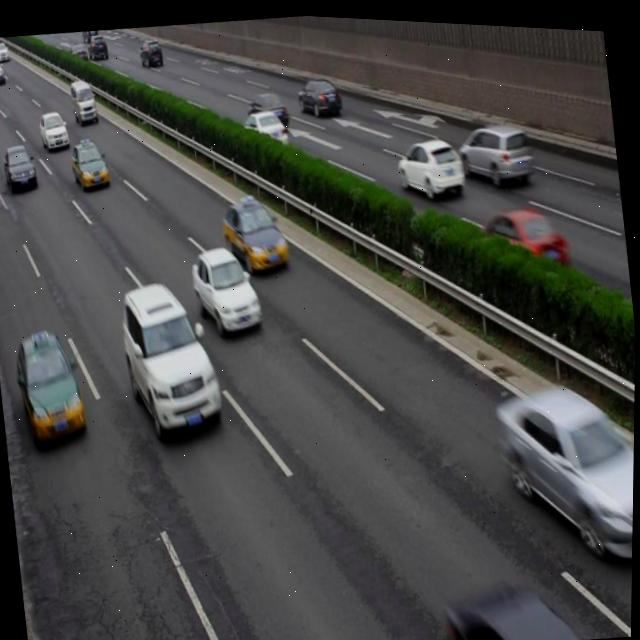car: (495, 363, 636, 555), (115, 271, 226, 443), (12, 324, 89, 451), (473, 194, 571, 279), (189, 237, 265, 337), (218, 188, 291, 276), (455, 110, 533, 186), (393, 128, 466, 199), (69, 135, 112, 195), (238, 103, 288, 150), (294, 70, 342, 118), (2, 139, 39, 192), (247, 85, 289, 126), (37, 107, 72, 154)
truck: (69, 76, 99, 126)
